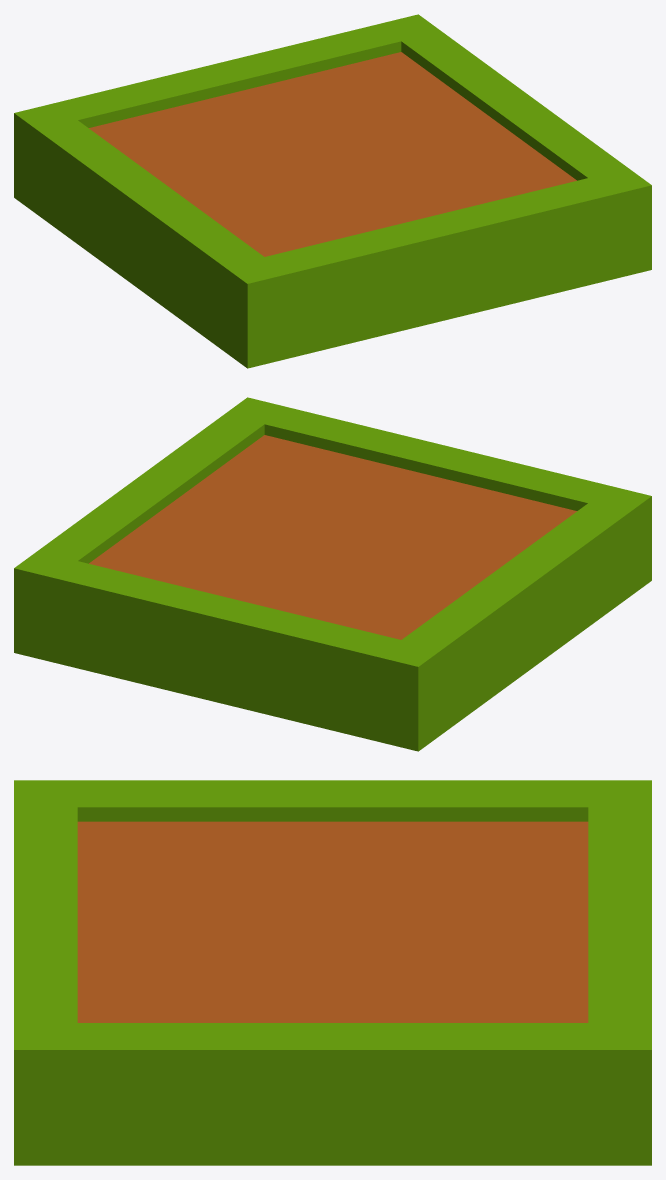
Rendered from TileGround_16.fbx.
The picture shows the model from 3 angles, top to bottom: view 1: azimuth 30°, elevation 25°; view 2: azimuth 150°, elevation 25°; view 3: azimuth 270°, elevation 25°; orthographic projection. The views are drawn at different scales.
Parts seen in each view (by area): view 1: TileGround_16; view 2: TileGround_16; view 3: TileGround_16.
Part boxes in pixels (left/top/right/bottom): TileGround_16: left=14, top=14, right=651, bottom=368; TileGround_16: left=14, top=397, right=651, bottom=751; TileGround_16: left=14, top=780, right=651, bottom=1165.
Bounding box in the file's own units: 500 × 100 × 500.
